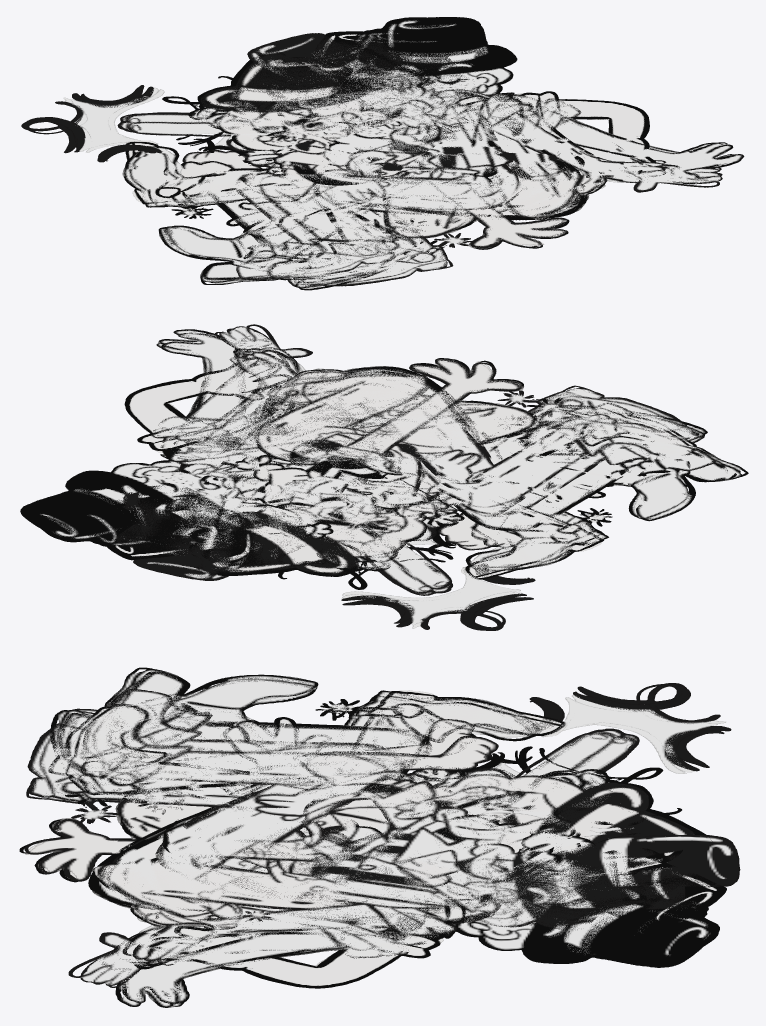
File: BossCutouts.fbx
The picture shows the model from 3 angles, top to bottom: view 1: azimuth 30°, elevation 25°; view 2: azimuth 150°, elevation 25°; view 3: azimuth 270°, elevation 25°; orthographic projection. The views are drawn at different scales.
Visible parts, largest first — view 1: Inhaling1, Whistling1, Dead1, Hit1, Idle1, Idle2, Dead2, Shooting1, Whistling2, Shooting2, Inhaling2; view 2: Hit1, Dead1, Shooting1, Inhaling2, Idle2, Dead2, Inhaling1, Whistling1, Shooting2, Whistling2, Idle1; view 3: Idle1, Dead1, Hit1, Inhaling1, Shooting1, Shooting2, Whistling1, Inhaling2, Whistling2, Idle2, Dead2.
Part boxes in pixels (<box>): Inhaling1: <box>196,18,673,286</box>; Whistling1: <box>122,29,733,268</box>; Dead1: <box>182,53,602,248</box>; Hit1: <box>125,31,655,280</box>; Idle1: <box>235,33,666,279</box>; Idle2: <box>236,33,666,279</box>; Dead2: <box>163,51,606,249</box>; Shooting1: <box>22,40,722,286</box>; Whistling2: <box>127,28,744,271</box>; Shooting2: <box>21,37,722,286</box>; Inhaling2: <box>188,17,679,290</box>; Hit1: <box>91,357,696,589</box>; Dead1: <box>187,359,537,575</box>; Shooting1: <box>119,324,700,630</box>; Inhaling2: <box>20,347,748,571</box>; Idle2: <box>133,350,715,580</box>; Dead2: <box>189,358,535,576</box>; Inhaling1: <box>25,349,736,568</box>; Whistling1: <box>76,332,695,573</box>; Shooting2: <box>116,326,704,630</box>; Whistling2: <box>71,329,692,571</box>; Idle1: <box>135,351,708,580</box>; Idle1: <box>81,689,740,963</box>; Dead1: <box>24,736,709,930</box>; Hit1: <box>48,690,726,988</box>; Inhaling1: <box>59,671,712,966</box>; Shooting1: <box>26,683,724,987</box>; Shooting2: <box>28,683,731,985</box>; Whistling1: <box>91,674,708,1004</box>; Inhaling2: <box>50,667,719,969</box>; Whistling2: <box>88,677,707,1007</box>; Idle2: <box>80,689,739,965</box>; Dead2: <box>19,719,711,929</box>.
Bounding box in the file's own units: 107 × 1.57e-05 × 96.46.
